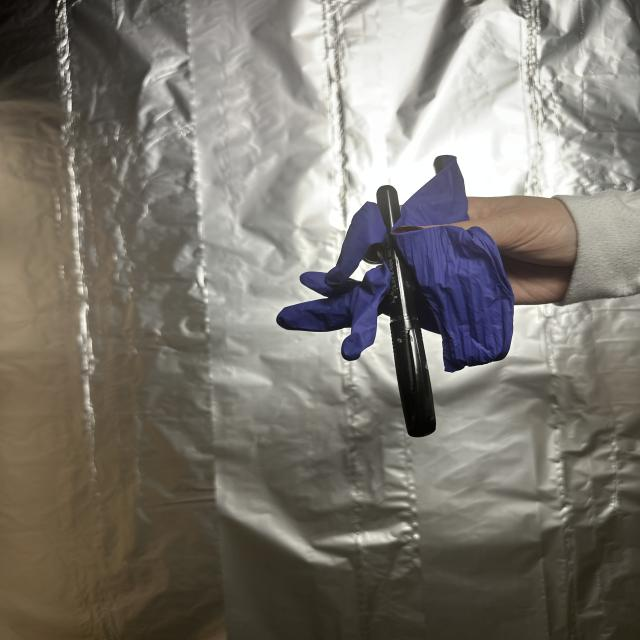glove_not_fitted: (260, 145, 640, 379)
